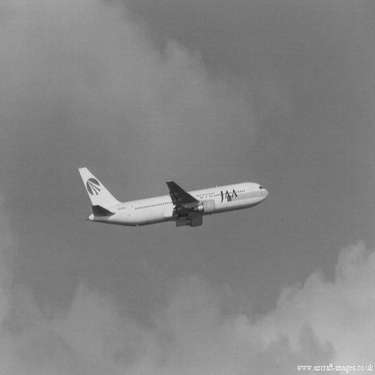airplane: (55, 152, 282, 239)
